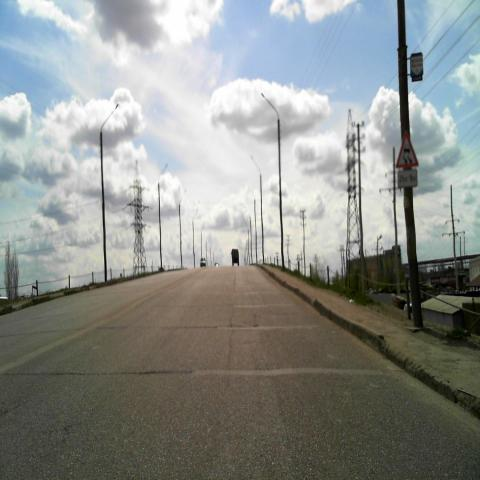1_15: (395, 130, 419, 168)
